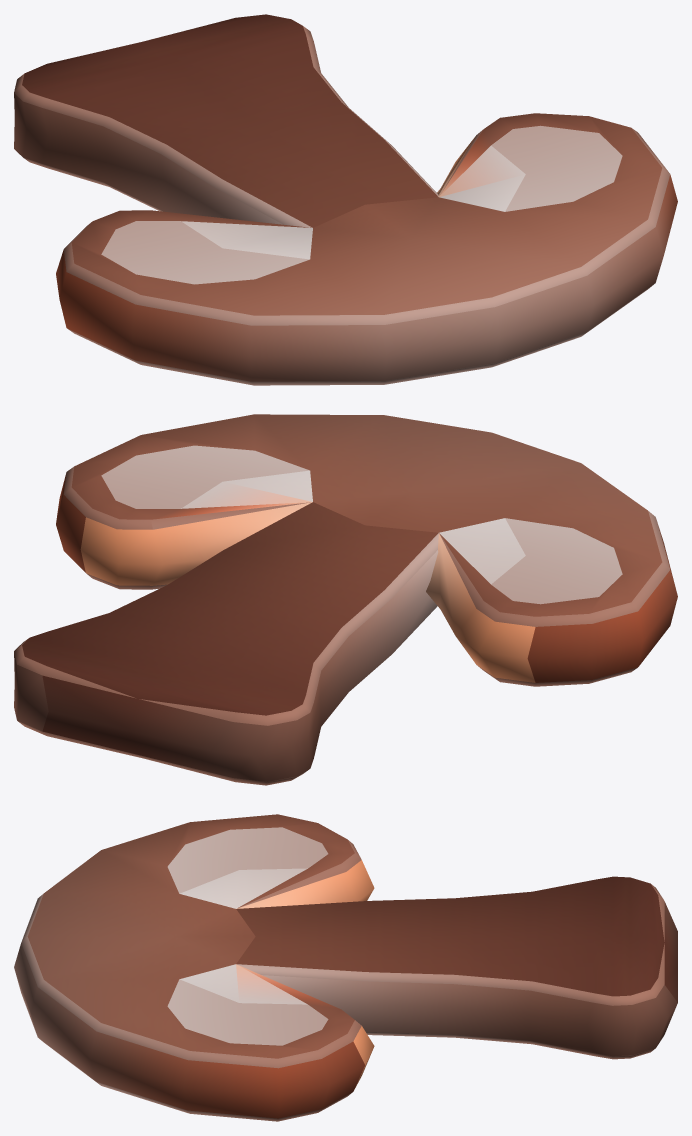
Rendered from mushroom_005.fbx.
3 renders of one model, top to bottom at view 1: azimuth 30°, elevation 25°; view 2: azimuth 150°, elevation 25°; view 3: azimuth 270°, elevation 25°, orthographic. The views are drawn at different scales.
Parts seen in each view (by area): view 1: mushroom_005; view 2: mushroom_005; view 3: mushroom_005.
Boxes of the visible parts, x1,y1,x2,y2 form: mushroom_005: (14, 14, 677, 385); mushroom_005: (14, 414, 677, 785); mushroom_005: (14, 814, 677, 1121).
Size of the model in its own units: 6.44 by 7.06 by 0.738.
